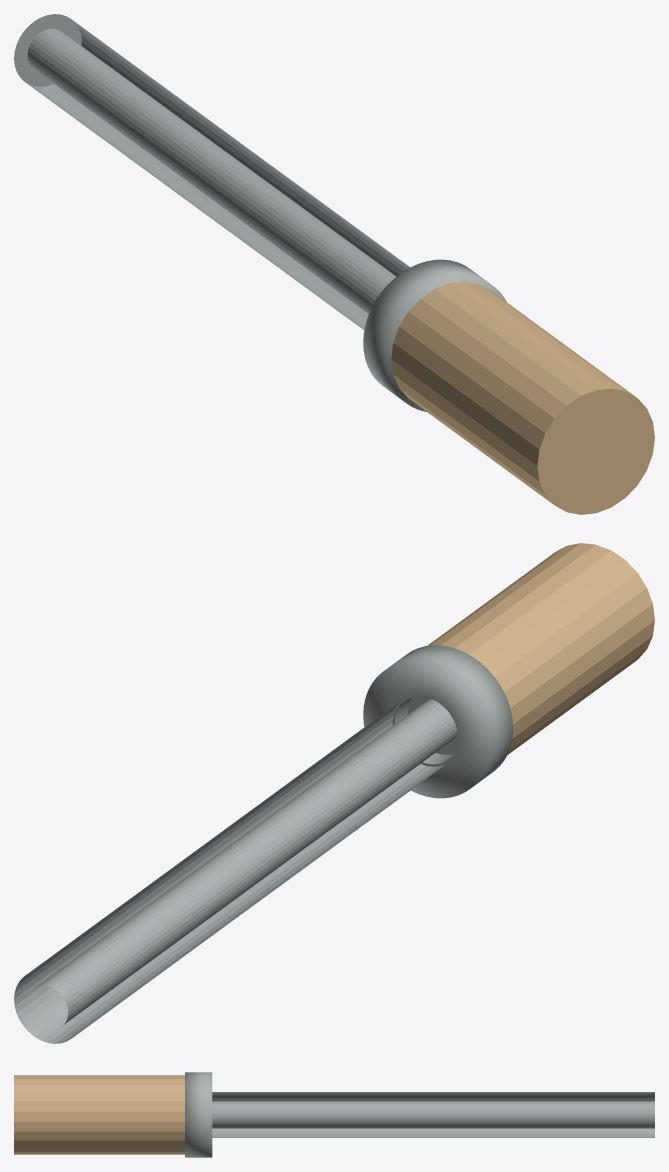
File: coffee-roastery-and-cupping-room-coffee-roastery-and-c-52d3f7b0__32188.glb
3 views of the same model, one above another, from view 1: azimuth 30°, elevation 25°; view 2: azimuth 150°, elevation 25°; view 3: azimuth 270°, elevation 25° (orthographic). The views are drawn at different scales.
Visible parts, largest first — view 1: coffee-roastery-and-cupping-room-roast-sampling-trier; view 2: coffee-roastery-and-cupping-room-roast-sampling-trier; view 3: coffee-roastery-and-cupping-room-roast-sampling-trier.
Part boxes in pixels (x1=…): coffee-roastery-and-cupping-room-roast-sampling-trier: x1=14, y1=14, x2=654, y2=514; coffee-roastery-and-cupping-room-roast-sampling-trier: x1=14, y1=543, x2=654, y2=1043; coffee-roastery-and-cupping-room-roast-sampling-trier: x1=14, y1=1072, x2=654, y2=1157.
Size of the model in its own units: 0.056 by 0.056 by 0.42.
